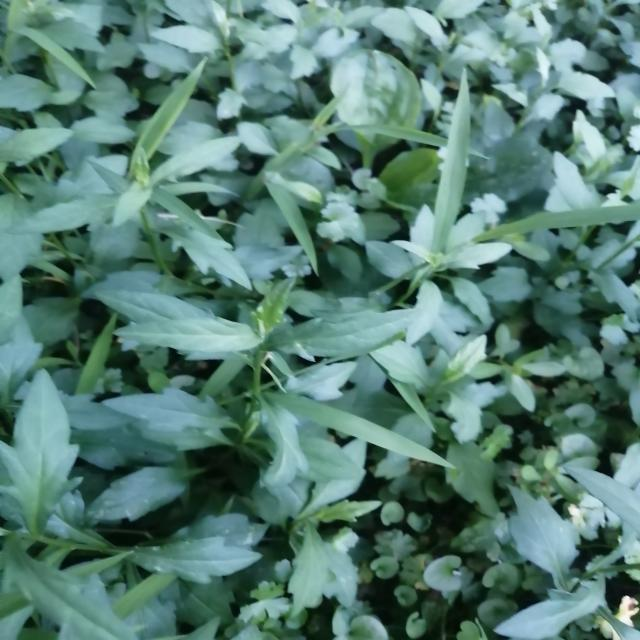Indian aster: (106, 261, 424, 489), (23, 138, 291, 282)
